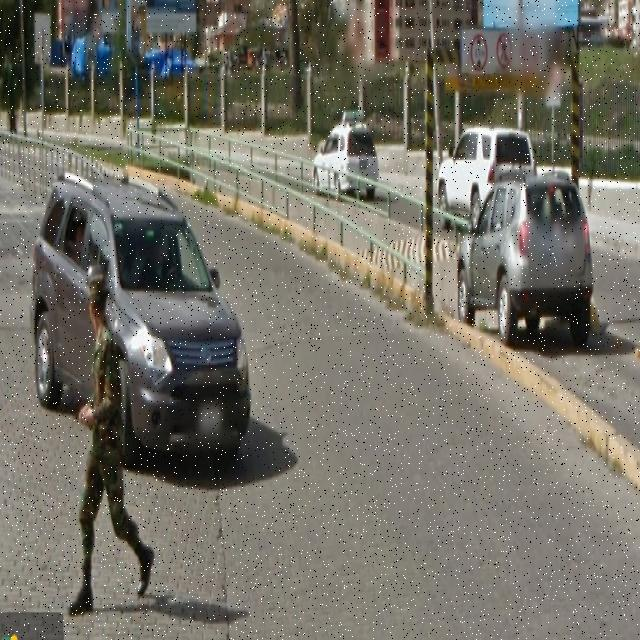cars: (27, 158, 253, 455), (453, 164, 599, 338), (433, 116, 521, 222), (318, 106, 381, 208)
